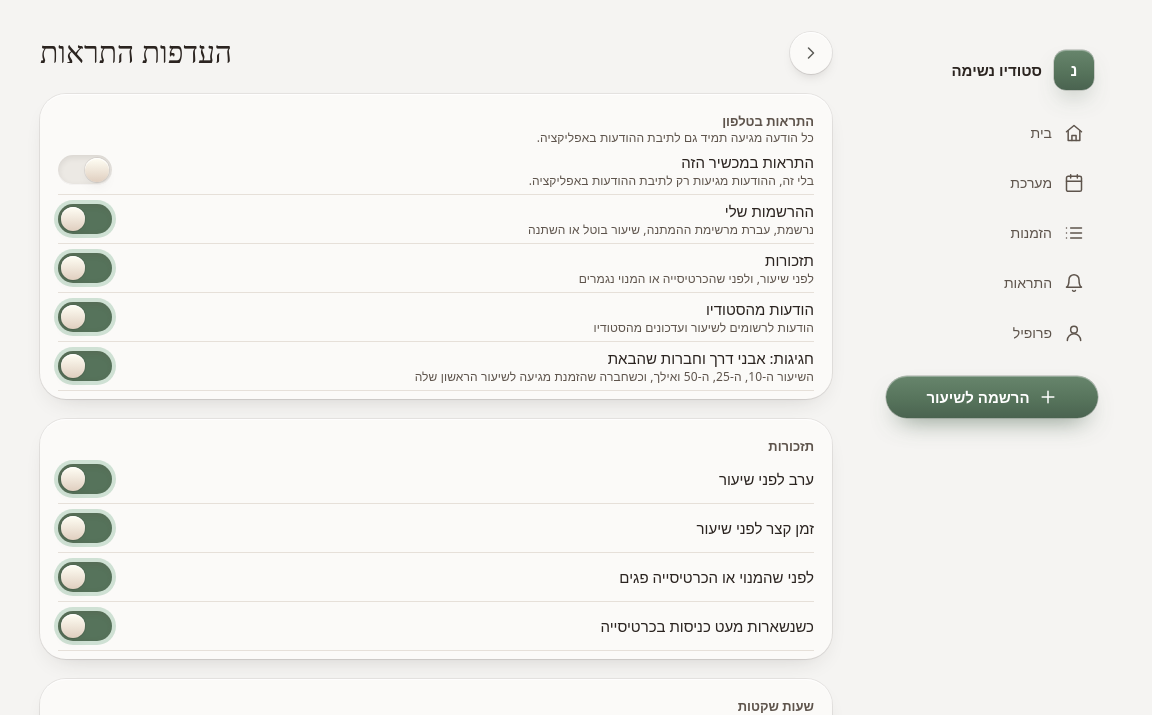
push on this device › explains a blocked permission
Click the switch named "התראות במכשיר הזה" at [85, 170], box [58,148,112,192]
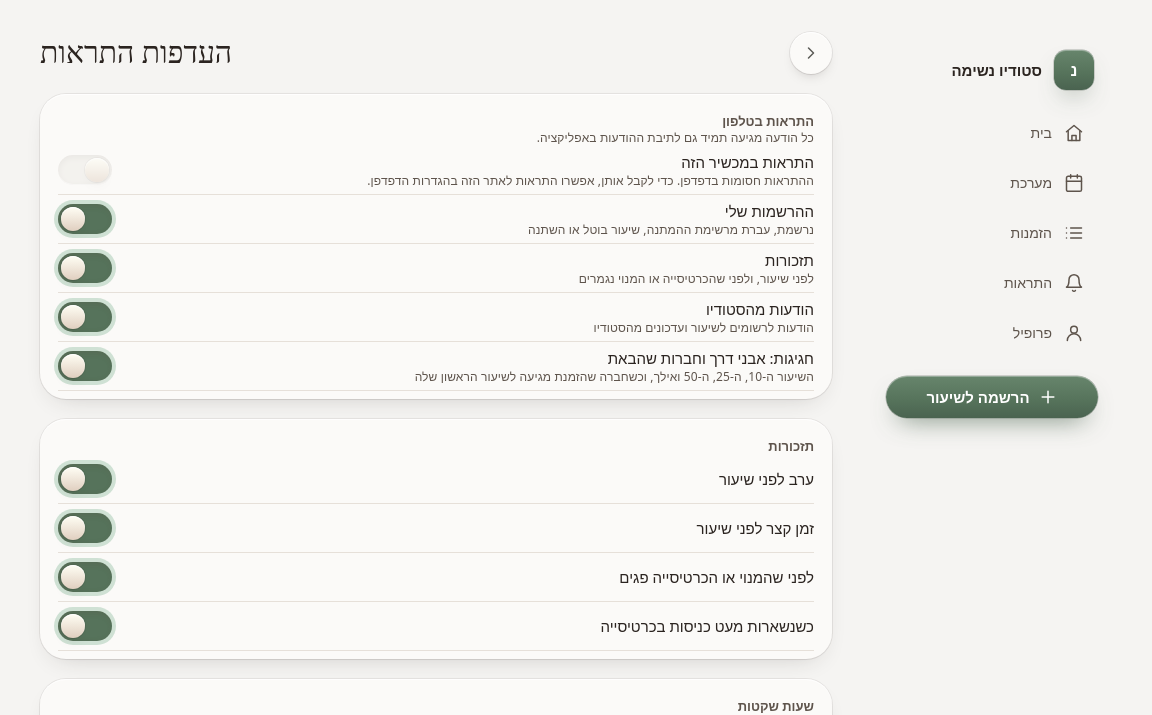
Check: the text "ההתראות חסומות בדפדפן" is shown, box [367,172,814,189]
Check: the switch named "התראות במכשיר הזה" is disabled, box [58,148,112,192]
